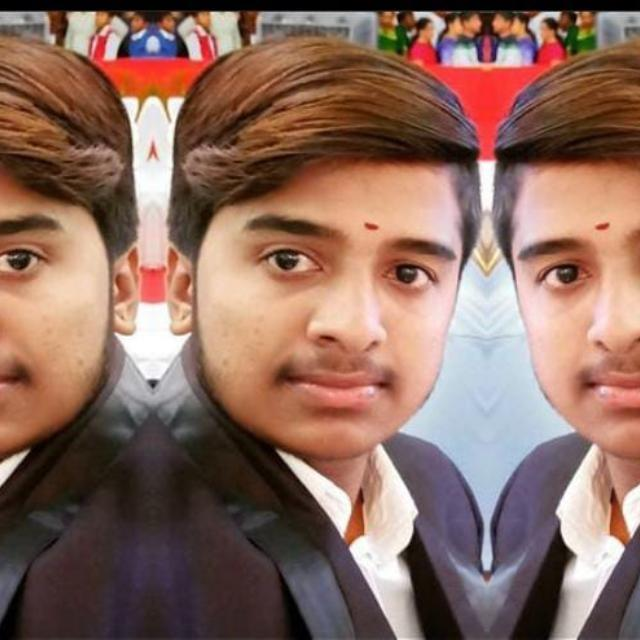person: (162, 18, 486, 640), (486, 18, 640, 639), (0, 18, 142, 639)
